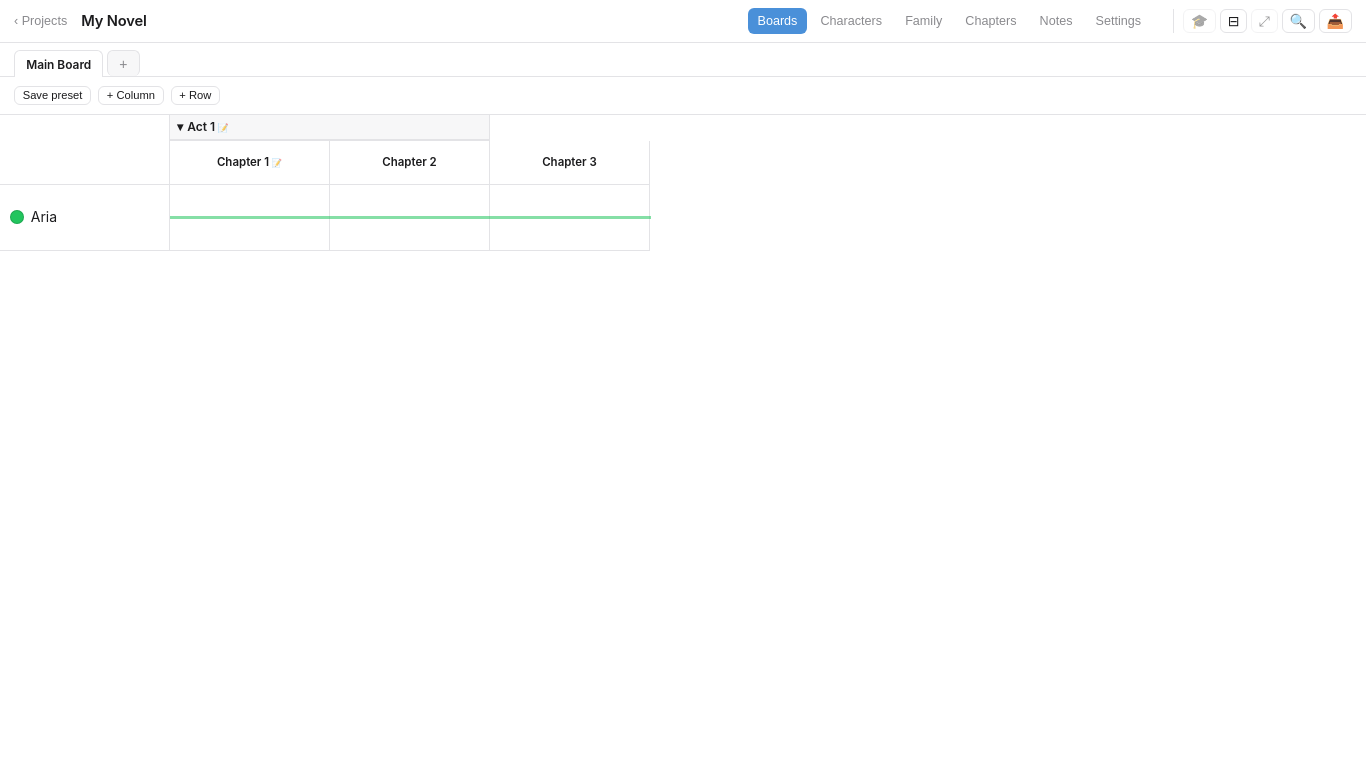
Test: board column headers › opens the group’s note from its label — not collapsing it
Check: the element with class "board-grid" is shown, box top-left (0, 114), bottom-right (651, 250)
Click the button with class "col-group-label" at (208, 126), box top-left (187, 119), bottom-right (229, 134)
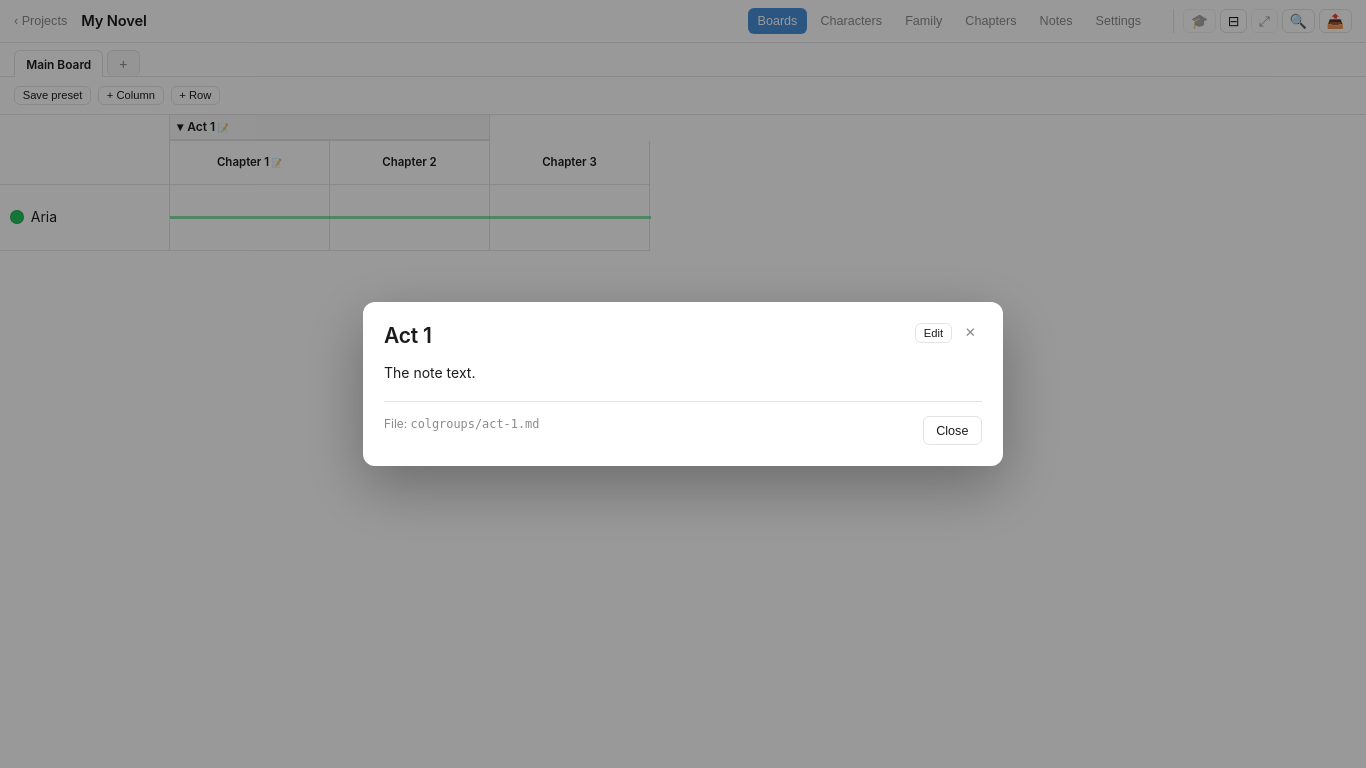
Check: the text "The note text." is shown, box top-left (384, 364), bottom-right (476, 381)
